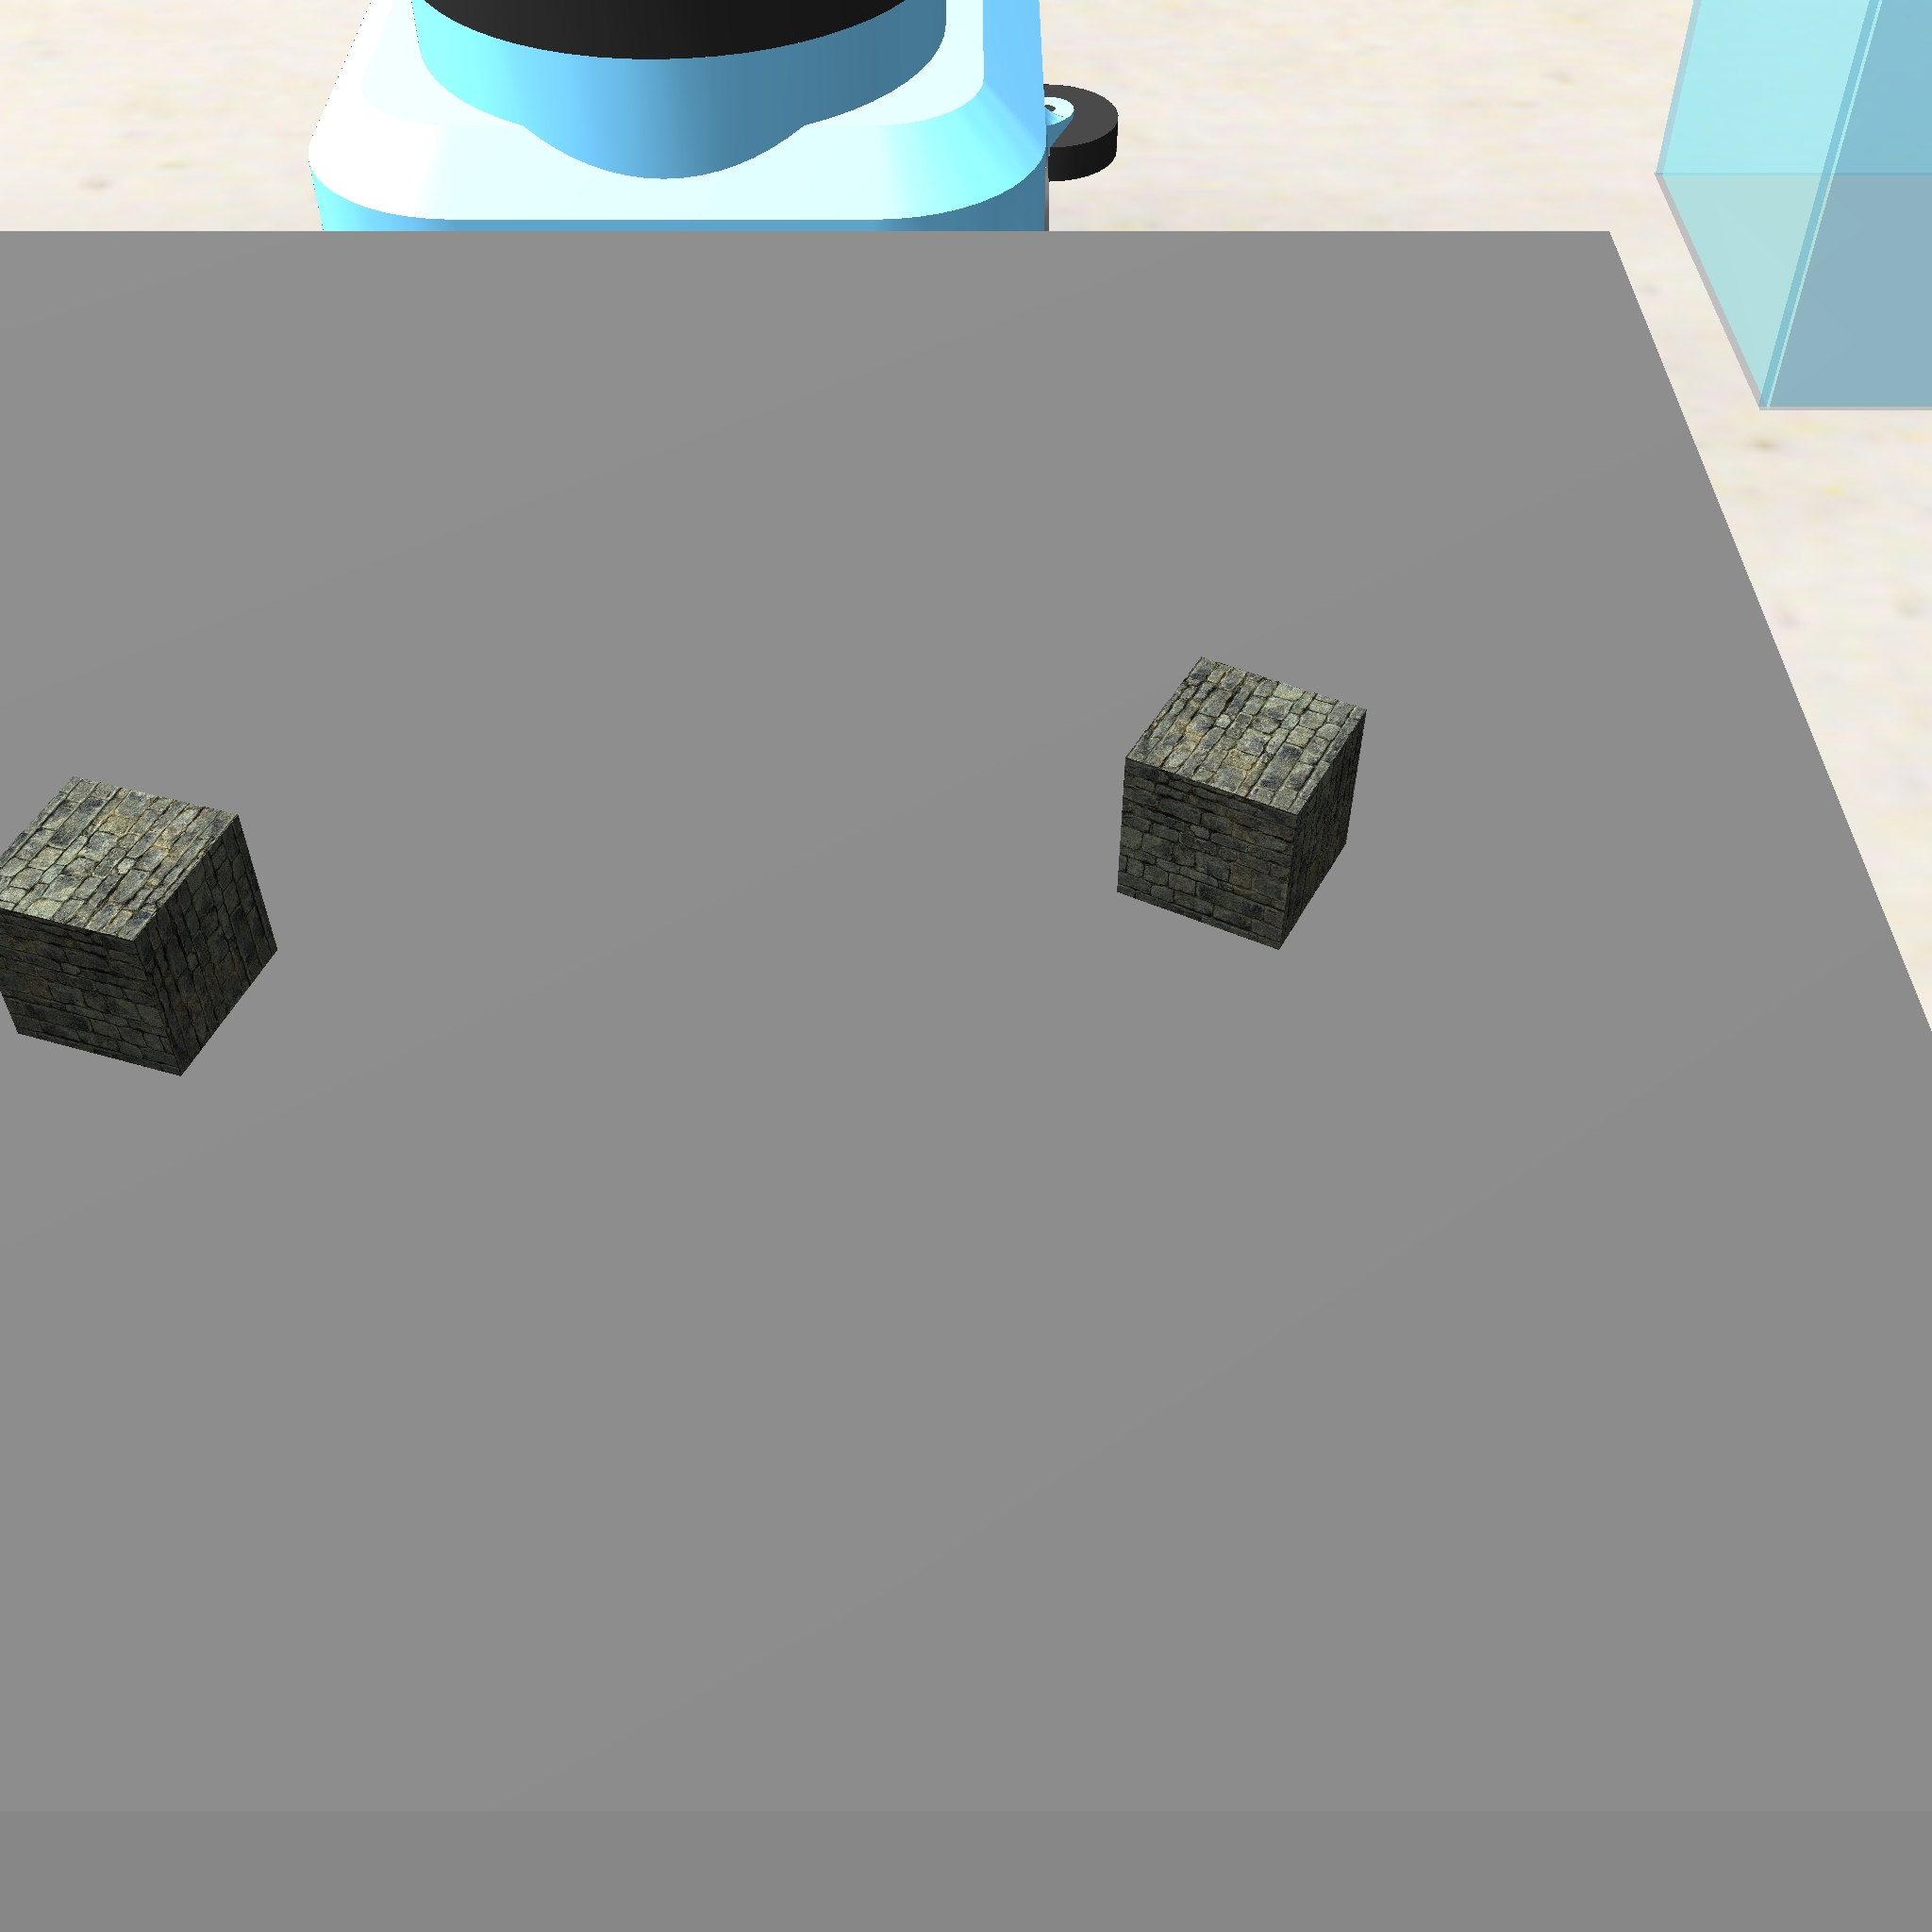cube: (2, 766, 288, 1086), (1108, 644, 1371, 959)
